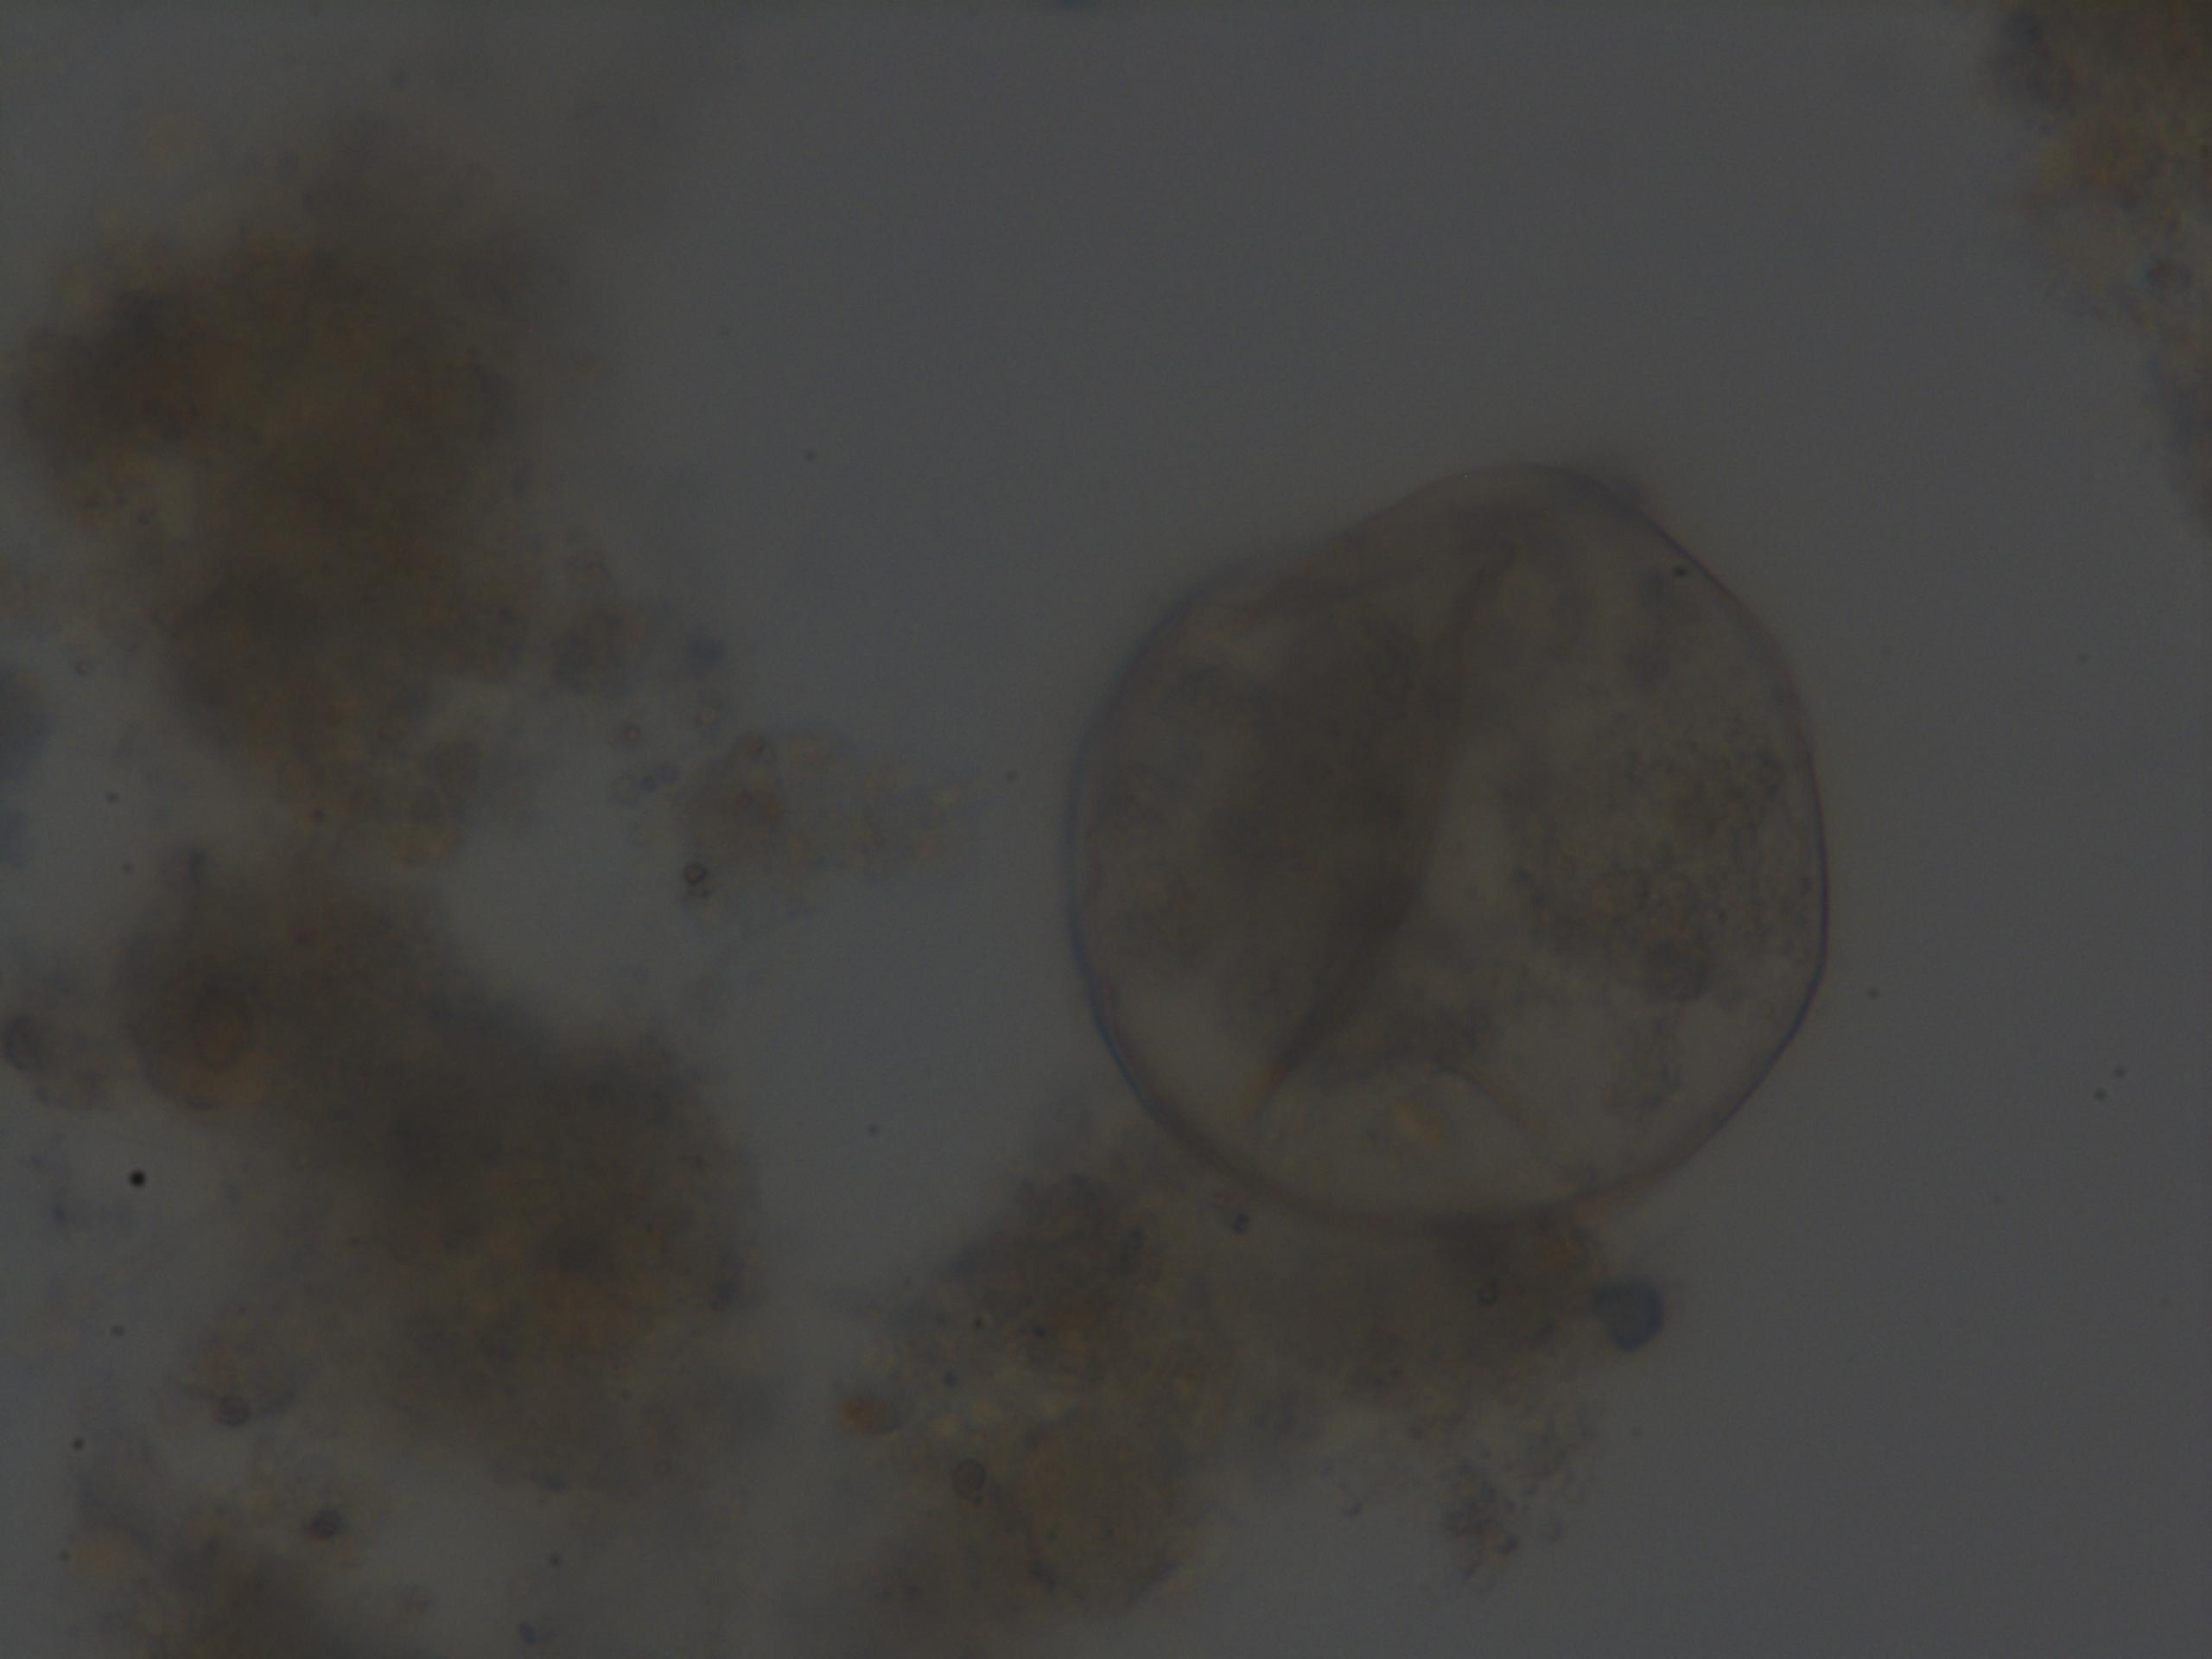protozoa: (1049, 441, 1843, 1239)
